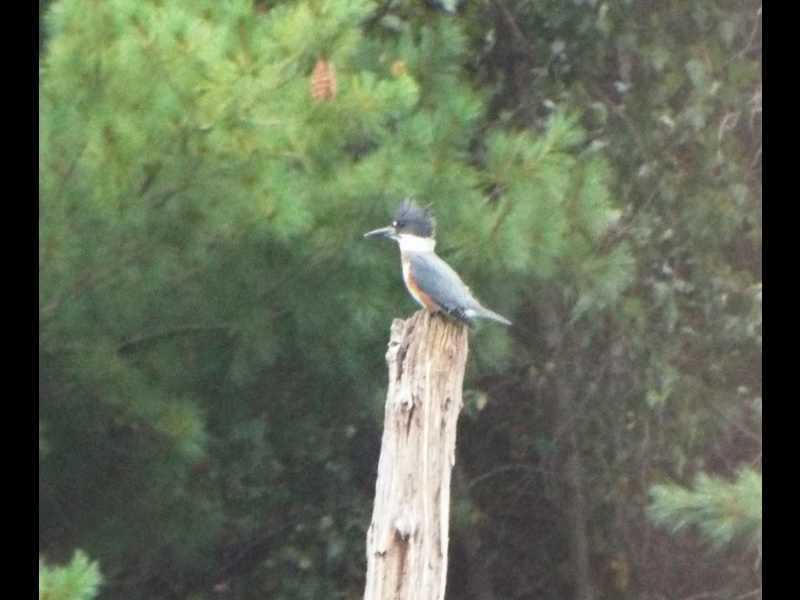kingfisher: (360, 196, 512, 332)
